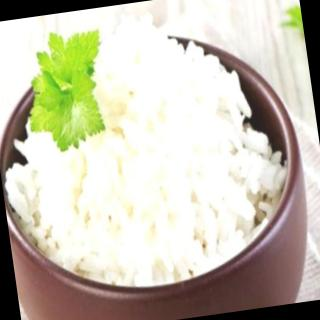Nasi: (1, 1, 304, 307)
